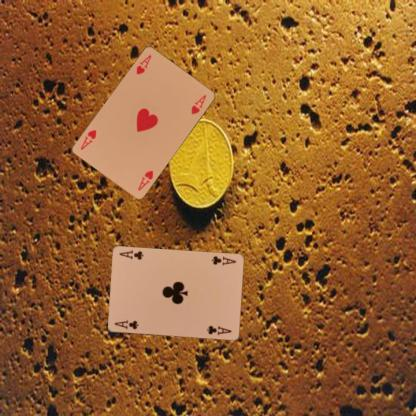Ac: (111, 317, 140, 331), (208, 254, 237, 267)
Ah: (135, 167, 154, 192), (134, 52, 152, 76)
